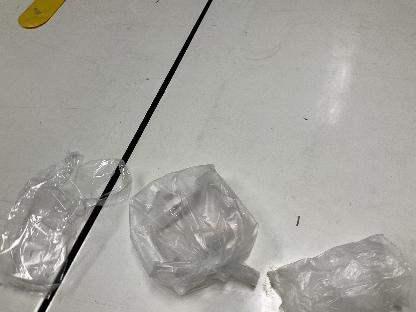Others: (115, 158, 274, 300), (6, 144, 132, 296), (258, 230, 416, 312)
